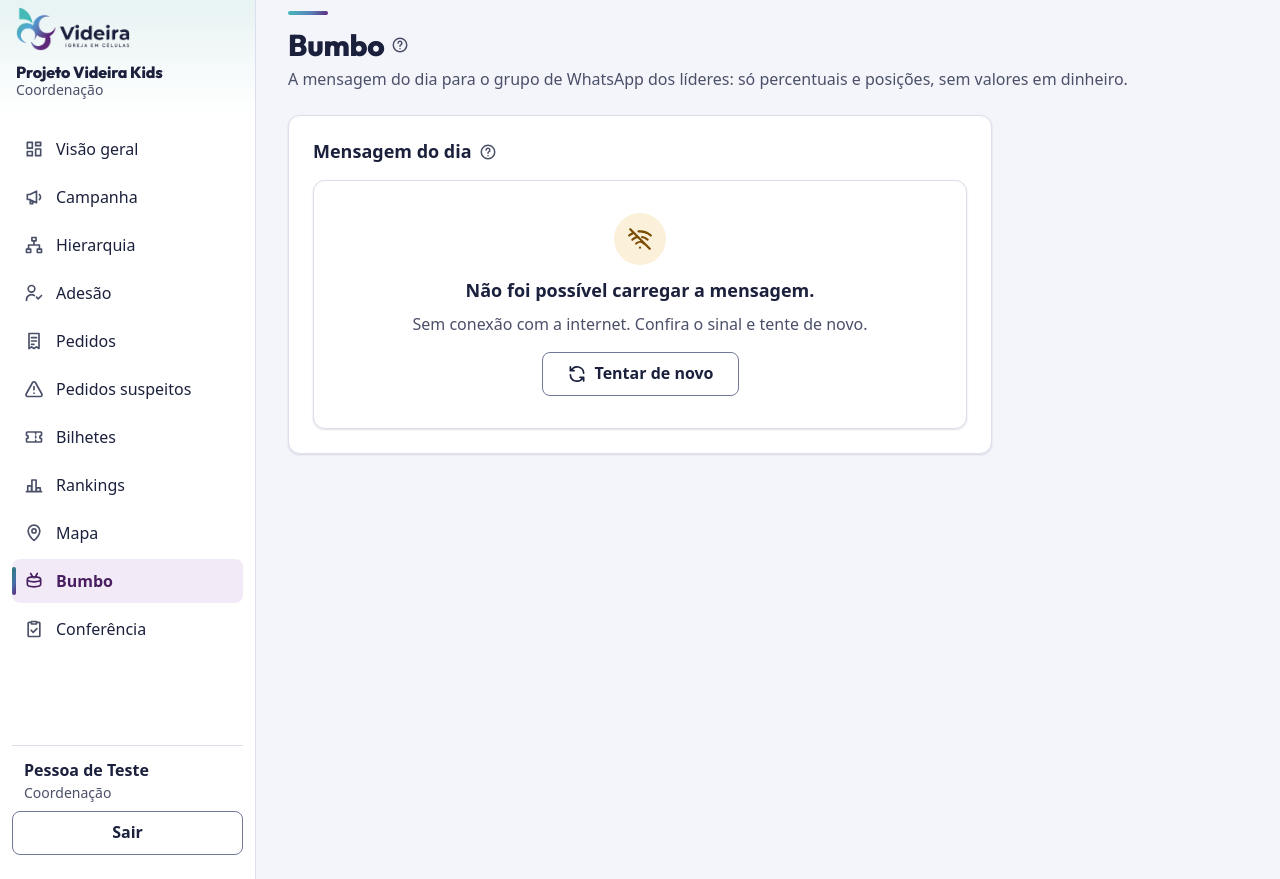
Scenario: CA1: a mensagem do dia › falha ao carregar: o erro com 'Tentar de novo', que pede de novo e mostra a mensagem
Expected: the message shows "Não foi possível carregar a mensagem.", [466,278,814,302]
Expected: the message shows "Sem conexão com a internet. Confira o sinal e tente de novo.", [412,313,868,335]
Step 1. Click the button "Tentar de novo" → (640, 374), box [542,352,738,396]
(page scrolled)
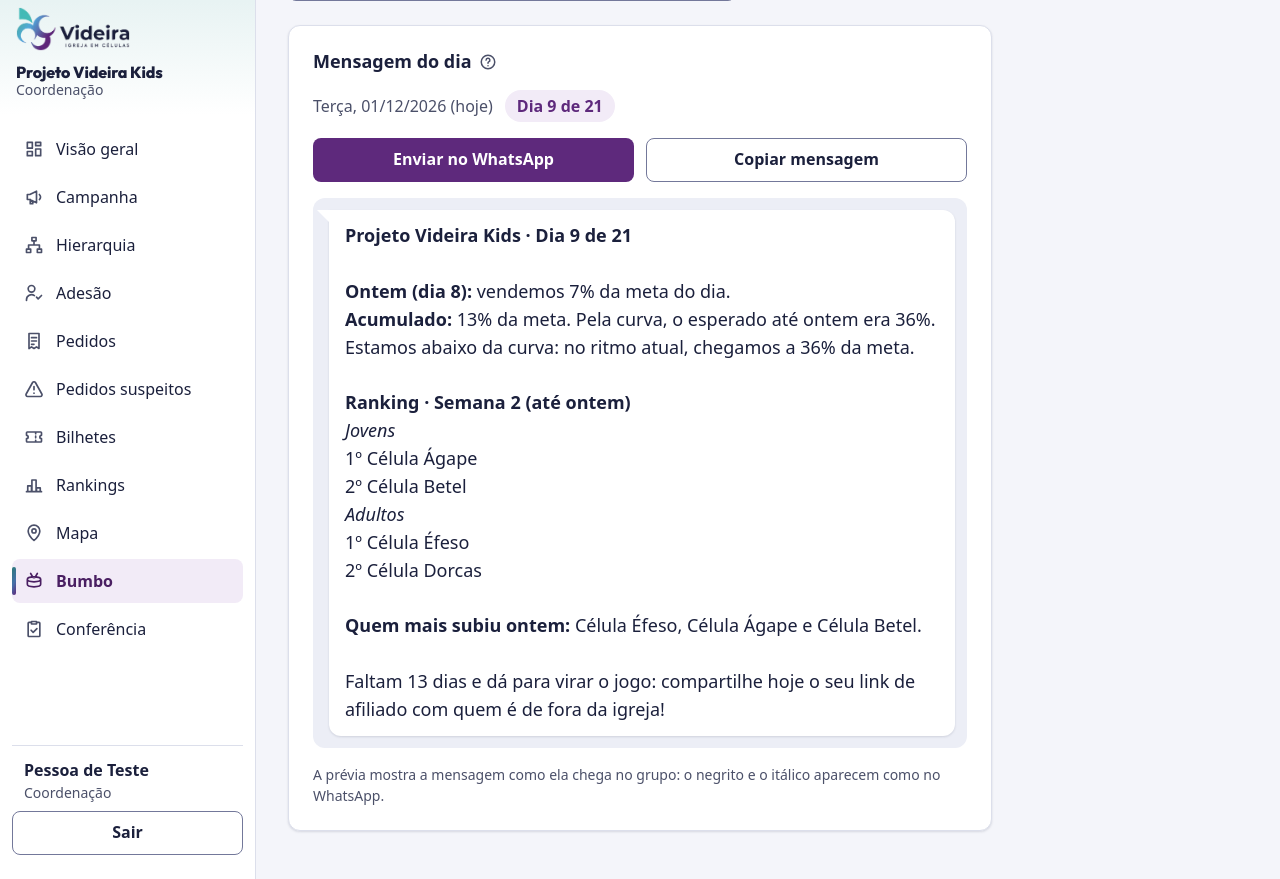
Expected: the message is gone
